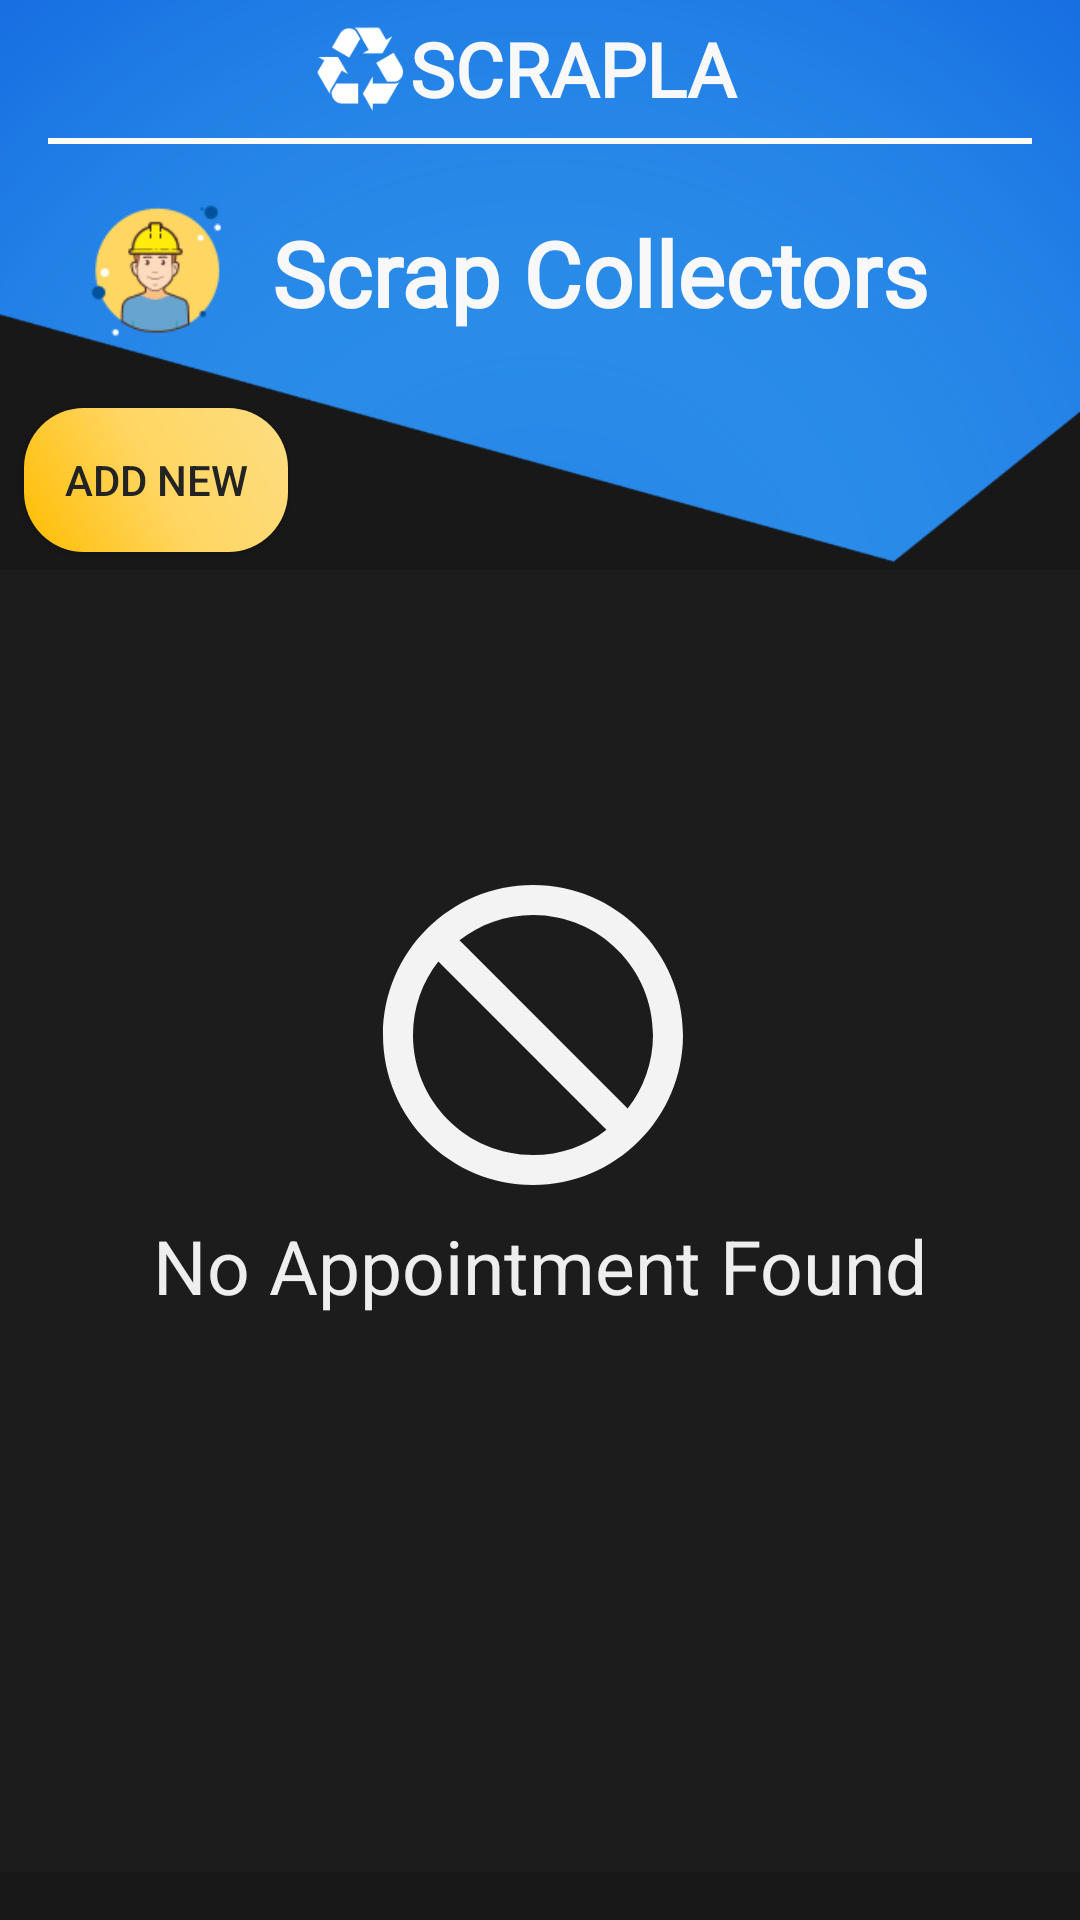

Where to tap for icons on this 1080px x 1920px app screen, as [x,y]:
not interested: [533,1035]
